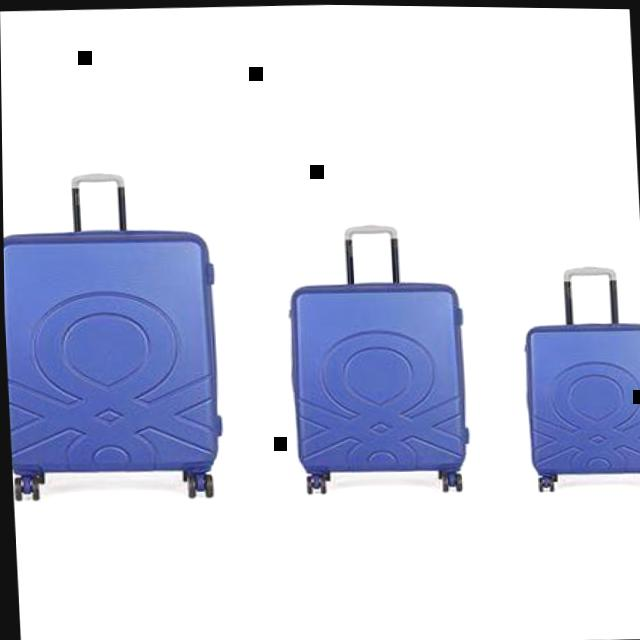luggage: (3, 217, 227, 480), (278, 271, 480, 481), (516, 310, 640, 477)
